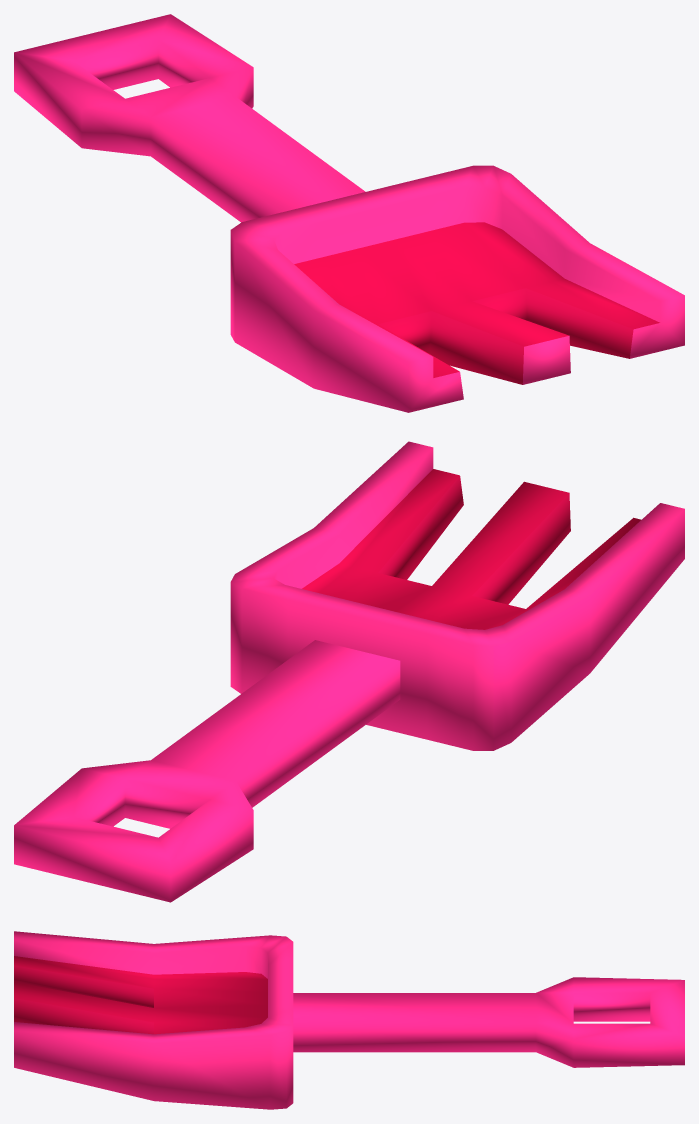
File: BeachToyRakePink.glb
3 renders of one model, top to bottom at view 1: azimuth 30°, elevation 25°; view 2: azimuth 150°, elevation 25°; view 3: azimuth 270°, elevation 25°, orthographic. The views are drawn at different scales.
Visible parts, largest first — view 1: BeachToyRakePink; view 2: BeachToyRakePink; view 3: BeachToyRakePink.
Boxes of the visible parts, box(x1,y1,x2,y2) form: BeachToyRakePink: box(14, 14, 684, 412); BeachToyRakePink: box(14, 441, 684, 902); BeachToyRakePink: box(14, 931, 684, 1109).
Size of the model in its own units: 0.1813 by 0.0684 by 0.5164.
Materials: 1 (1 with a texture image).
